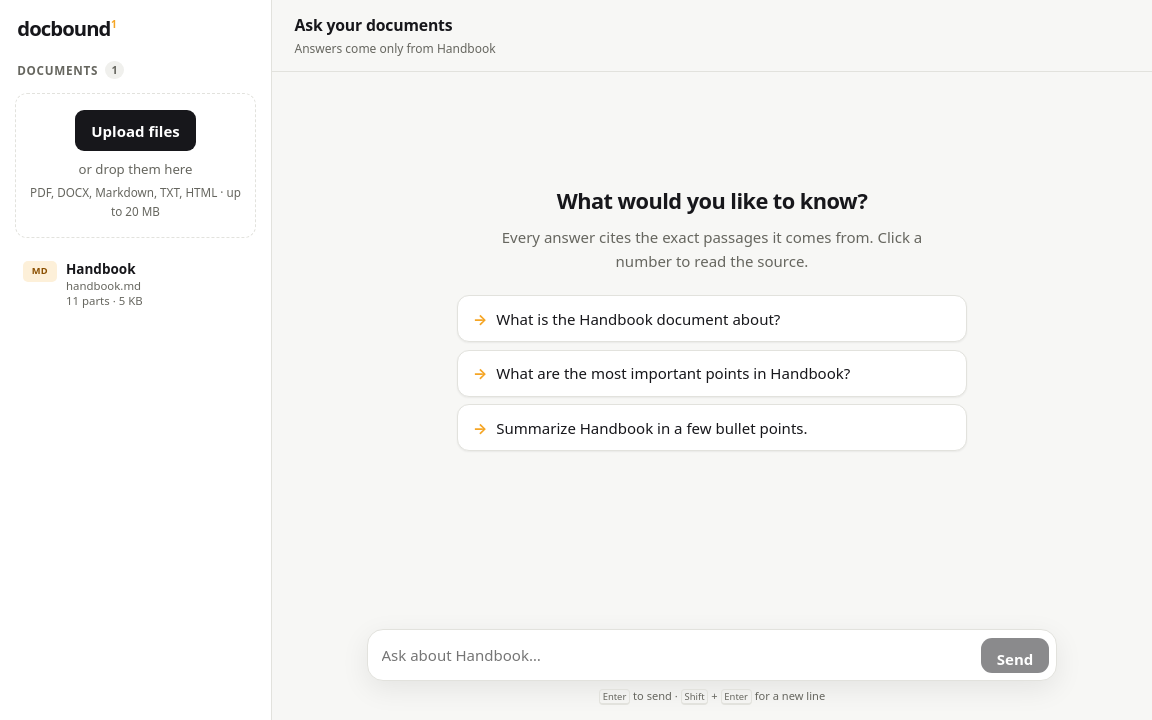
Test case: App › lists documents, streams an answer and opens the cited source
expect the text "handbook.md" is shown: met, box [66,278,141,293]
Type "How many vacation days?" into the text box named "Question". click: [677, 655]
box: [382,637,973,673]
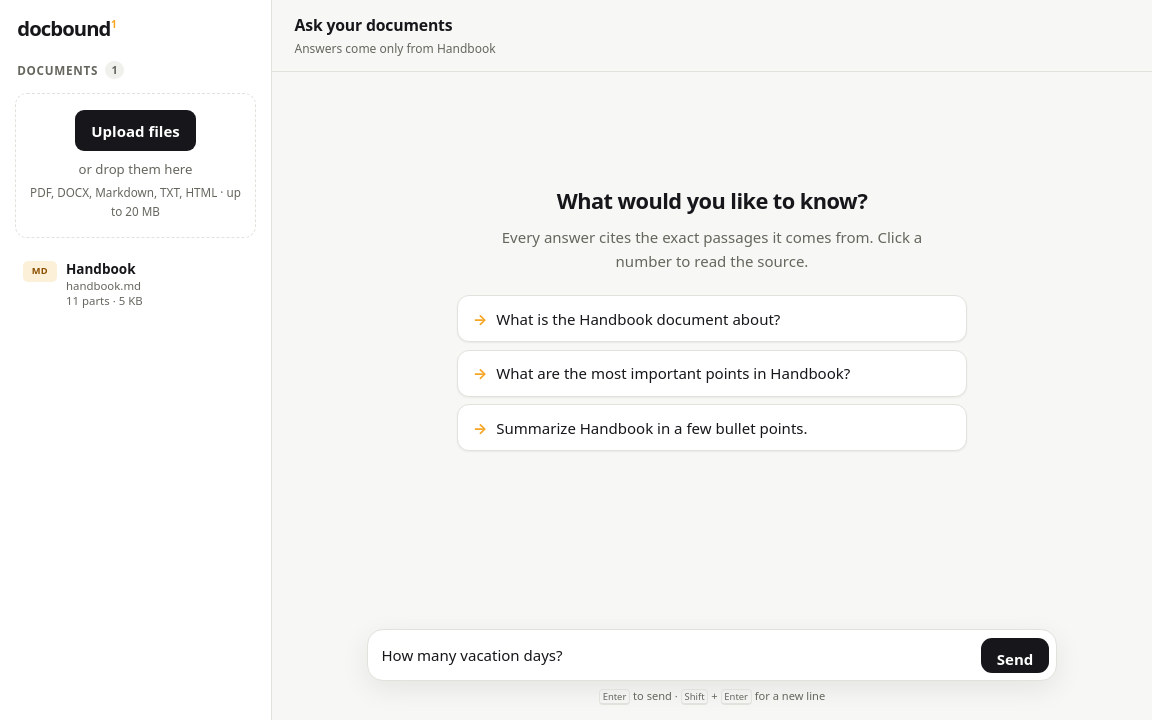
Click the button "Send". click: [1015, 656]
box: [981,638,1049,673]
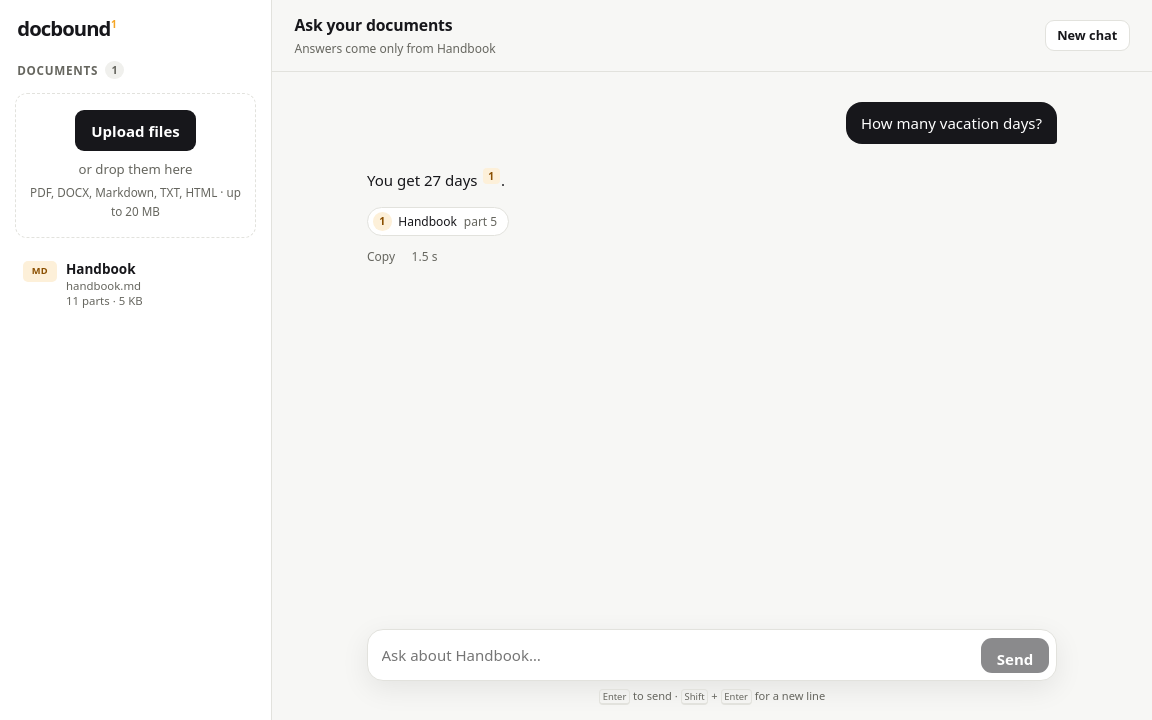
expect the text "You get 27 days" is shown: met, box [367,170,481,190]
expect the text "1.5 s" is shown: met, box [412,247,437,266]
Click the button named "Source 1: Handbook". click: [491, 176]
box: [483,168,500,184]
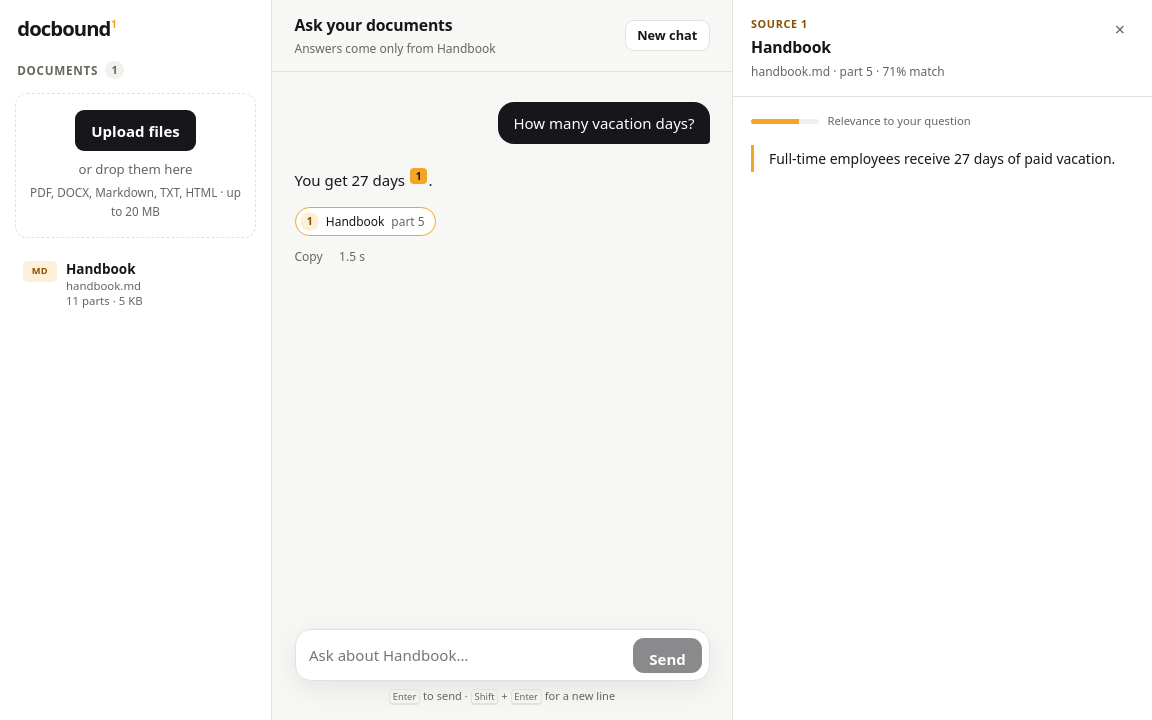
expect the element "Source" shows "Full-time employees receive 27 days of paid vacation.": met, box [769,149,1115,168]
expect the element "Source" shows "Handbook": met, box [751,36,831,58]
expect the element "Source" shows "handbook.md · part 5 · 71% match": met, box [732,0,1151,719]
Press Escape
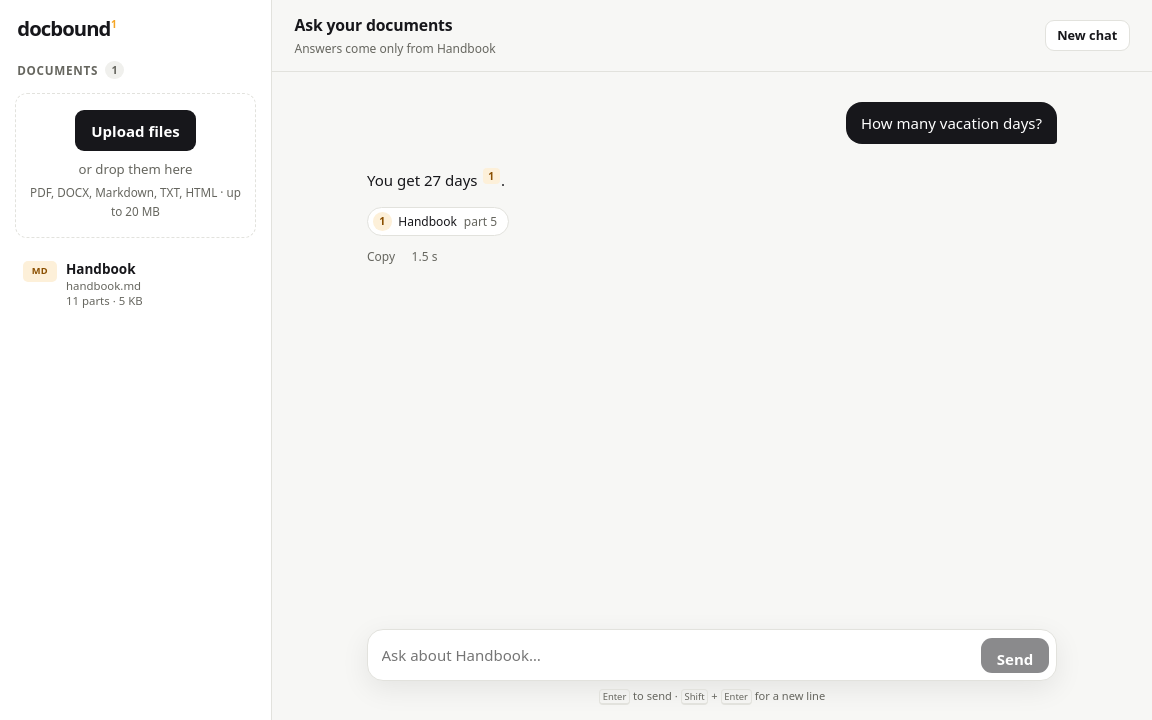
expect the text "Source" is gone: met
